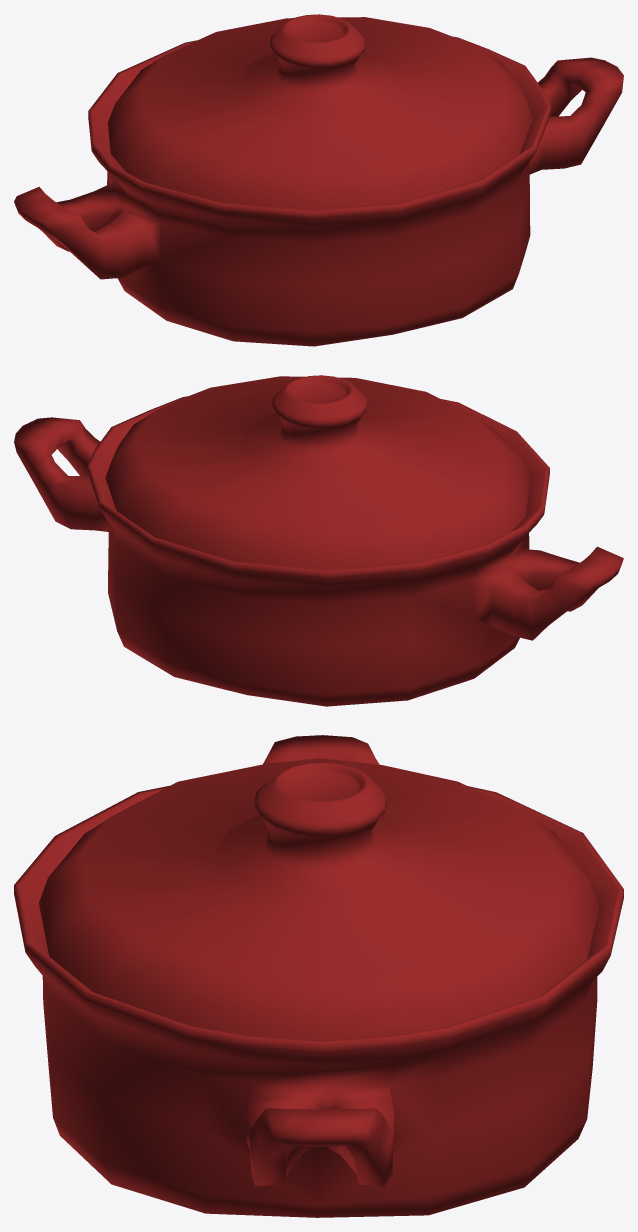
The picture shows the model from 3 angles, top to bottom: view 1: azimuth 30°, elevation 25°; view 2: azimuth 150°, elevation 25°; view 3: azimuth 270°, elevation 25°; orthographic projection. The views are drawn at different scales.
Parts seen in each view (by area): view 1: s4_box2_05_low; view 2: s4_box2_05_low; view 3: s4_box2_05_low.
Boxes of the visible parts, left/top/right/bottom form: s4_box2_05_low: left=14, top=14, right=623, bottom=346; s4_box2_05_low: left=14, top=375, right=623, bottom=706; s4_box2_05_low: left=14, top=735, right=623, bottom=1217.
Size of the model in its own units: 1.2 by 0.4617 by 0.775.
